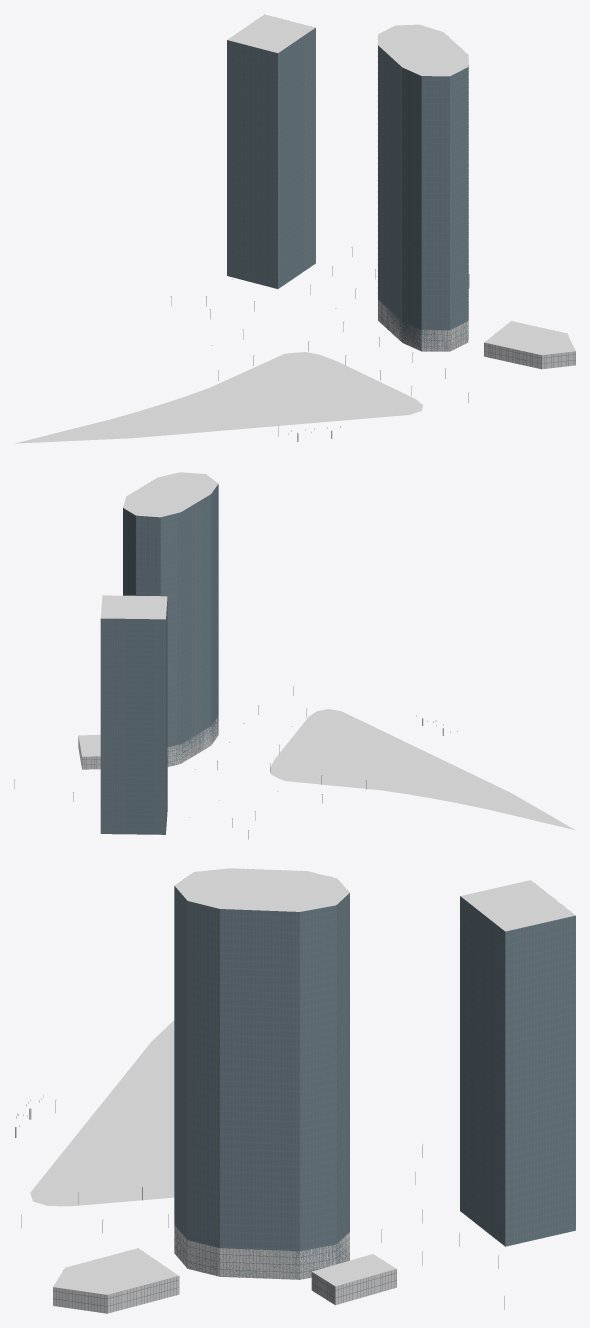
3 renders of one model, top to bottom at view 1: azimuth 30°, elevation 25°; view 2: azimuth 150°, elevation 25°; view 3: azimuth 270°, elevation 25°, orthographic. The views are drawn at different scales.
Parts seen in each view (by area): view 1: 3_-2_超高层蓝灰幕墙, 3_-2_城市金属细框, 3_-2_v02 草地, 3_-2_v02 深灰屋面, 3_-2_v02 米白石材; view 2: 3_-2_超高层蓝灰幕墙, 3_-2_v02 草地, 3_-2_城市金属细框, 3_-2_v02 深灰屋面, 3_-2_v02 米白石材; view 3: 3_-2_超高层蓝灰幕墙, 3_-2_城市金属细框, 3_-2_v02 草地, 3_-2_v02 深灰屋面, 3_-2_v02 米白石材.
Part boxes in pixels (x1,y1,x2,y2): 3_-2_超高层蓝灰幕墙: (227, 28, 468, 351); 3_-2_城市金属细框: (227, 28, 575, 369); 3_-2_v02 草地: (15, 352, 422, 443); 3_-2_v02 深灰屋面: (227, 14, 575, 355); 3_-2_v02 米白石材: (378, 274, 575, 369); 3_-2_超高层蓝灰幕墙: (101, 484, 218, 834); 3_-2_v02 草地: (270, 709, 575, 830); 3_-2_城市金属细框: (82, 488, 218, 834); 3_-2_v02 深灰屋面: (78, 472, 218, 756); 3_-2_v02 米白石材: (78, 716, 218, 769); 3_-2_超高层蓝灰幕墙: (174, 886, 575, 1279); 3_-2_城市金属细框: (53, 890, 575, 1313); 3_-2_v02 草地: (30, 1020, 174, 1206); 3_-2_v02 深灰屋面: (53, 868, 575, 1294); 3_-2_v02 米白石材: (53, 1225, 396, 1313).
Bounding box in the file's own units: 380 × 196 × 270.
